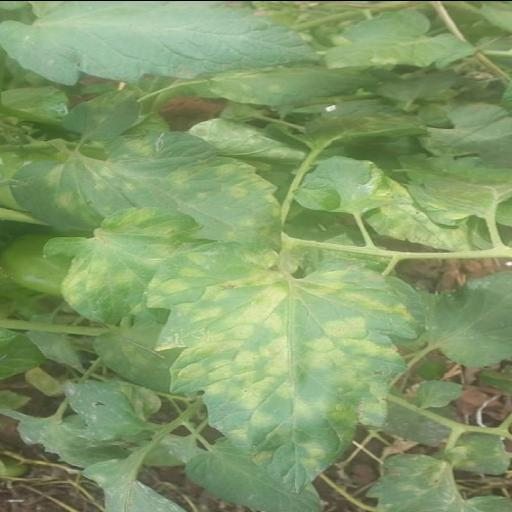disease_tomato: (144, 252, 422, 486), (28, 128, 282, 252), (52, 214, 219, 314)
